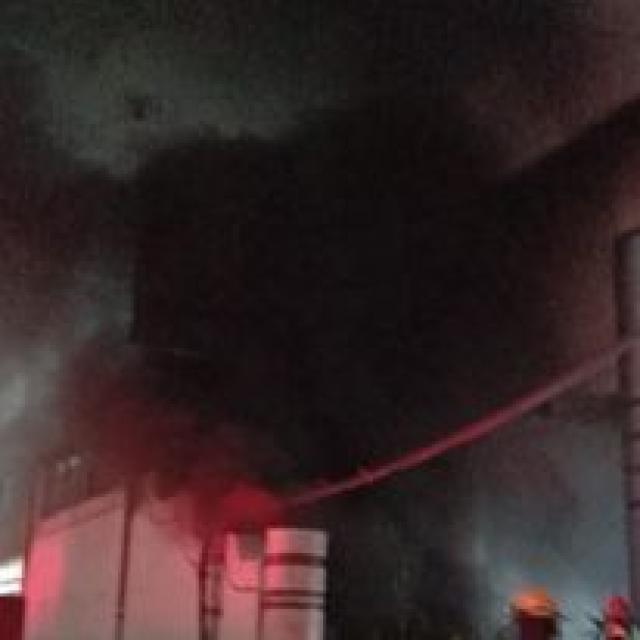Smoke: (2, 4, 510, 350), (92, 291, 454, 475)
